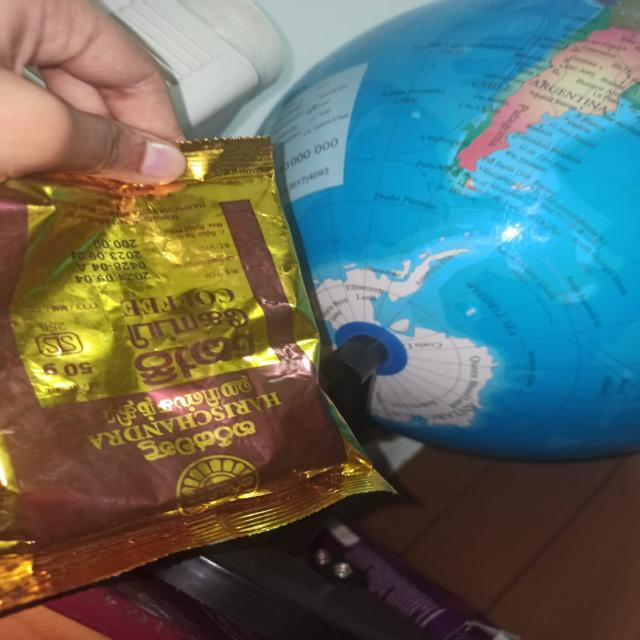Harischandra Coffee: (0, 175, 390, 640)
